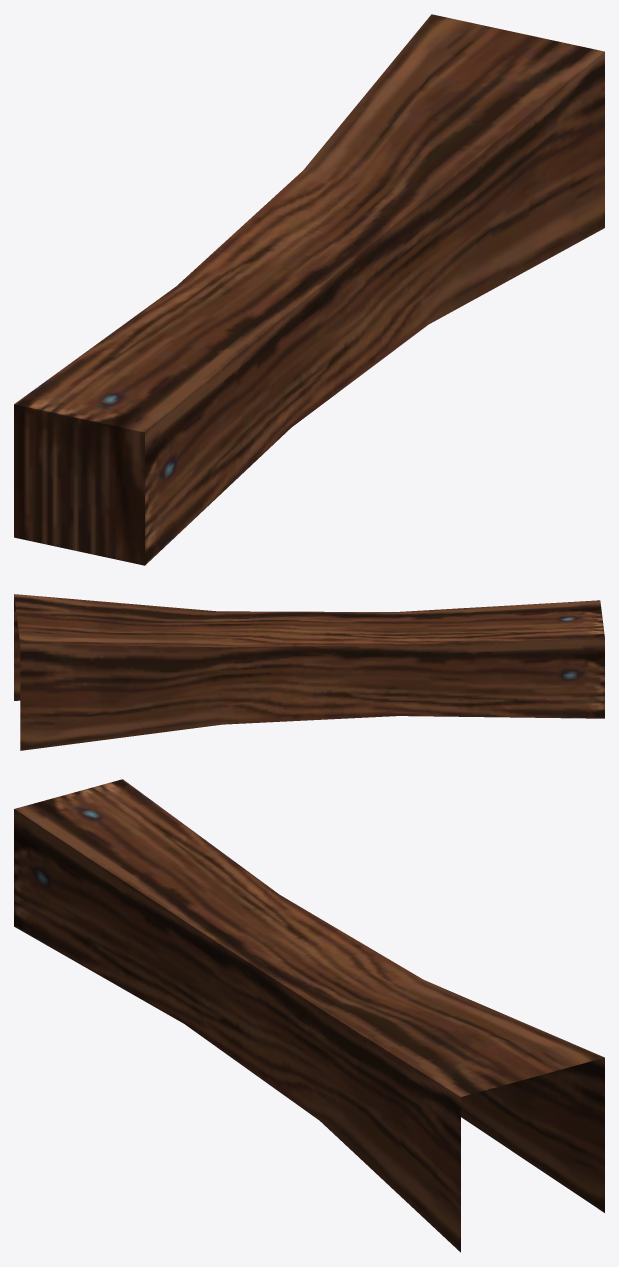
The model's file is OVERHILL_A_01_POST32.obj.
3 views of the same model, one above another, from view 1: azimuth 30°, elevation 25°; view 2: azimuth 150°, elevation 25°; view 3: azimuth 270°, elevation 25° (orthographic). The views are drawn at different scales.
Visible parts, largest first — view 1: post32; view 2: post32; view 3: post32.
Boxes of the visible parts, x1,y1,x2,y2 form: post32: (14, 14, 604, 565); post32: (14, 594, 604, 750); post32: (14, 779, 604, 1252).
Size of the model in its own units: 200 by 42.99 by 148.
